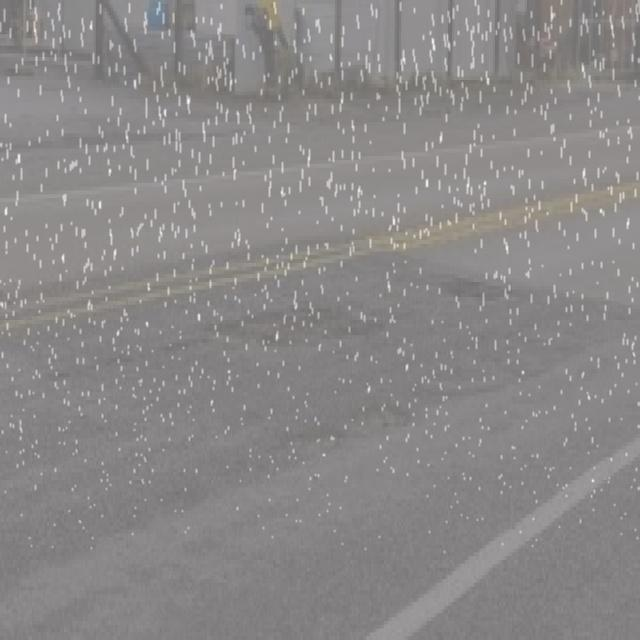Pothole: (19, 304, 625, 602), (228, 293, 405, 358), (410, 257, 550, 326)
